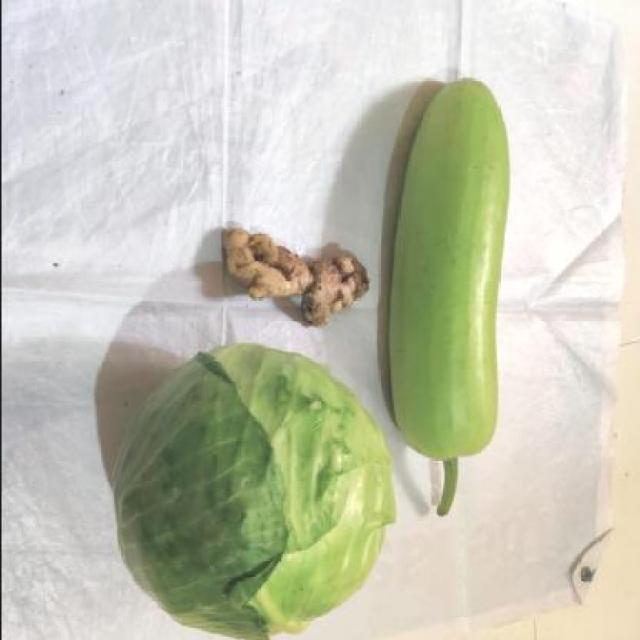Cabbage: (114, 341, 397, 640)
Calabash: (394, 78, 508, 517)
Ginger: (228, 227, 370, 336)
